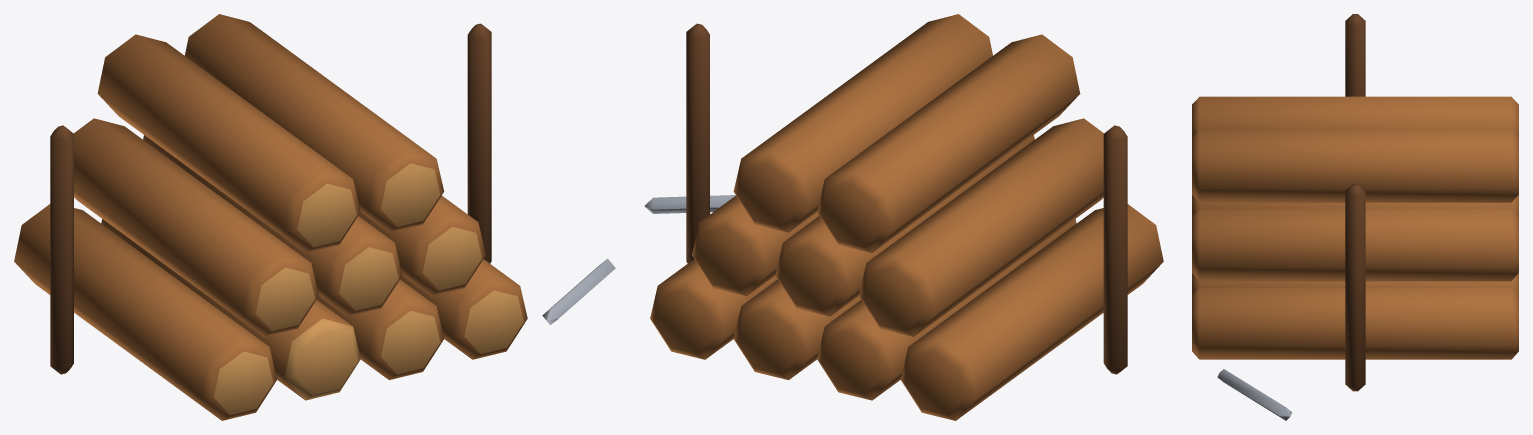
Rendered from P_MedWoodpile.fbx.
3 renders of one model, left to right at view 1: azimuth 30°, elevation 25°; view 2: azimuth 150°, elevation 25°; view 3: azimuth 270°, elevation 25°, orthographic. The views are drawn at different scales.
Visible parts, largest first — view 1: M_Woodpile; view 2: M_Woodpile; view 3: M_Woodpile.
Part boxes in pixels (x1=…): M_Woodpile: x1=14, y1=14, x2=615, y2=420; M_Woodpile: x1=644, y1=14, x2=1163, y2=420; M_Woodpile: x1=1192, y1=14, x2=1518, y2=420.
Size of the model in its own units: 2 by 0.9 by 1.3.
Materials: 1 (1 with a texture image).
